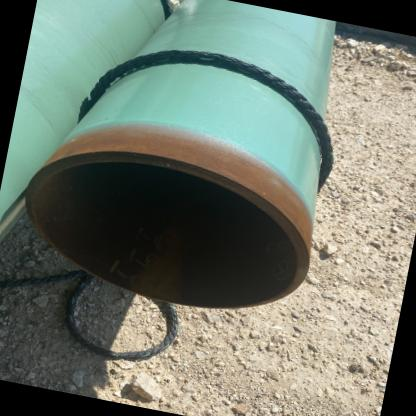clean: (171, 135, 246, 201)
